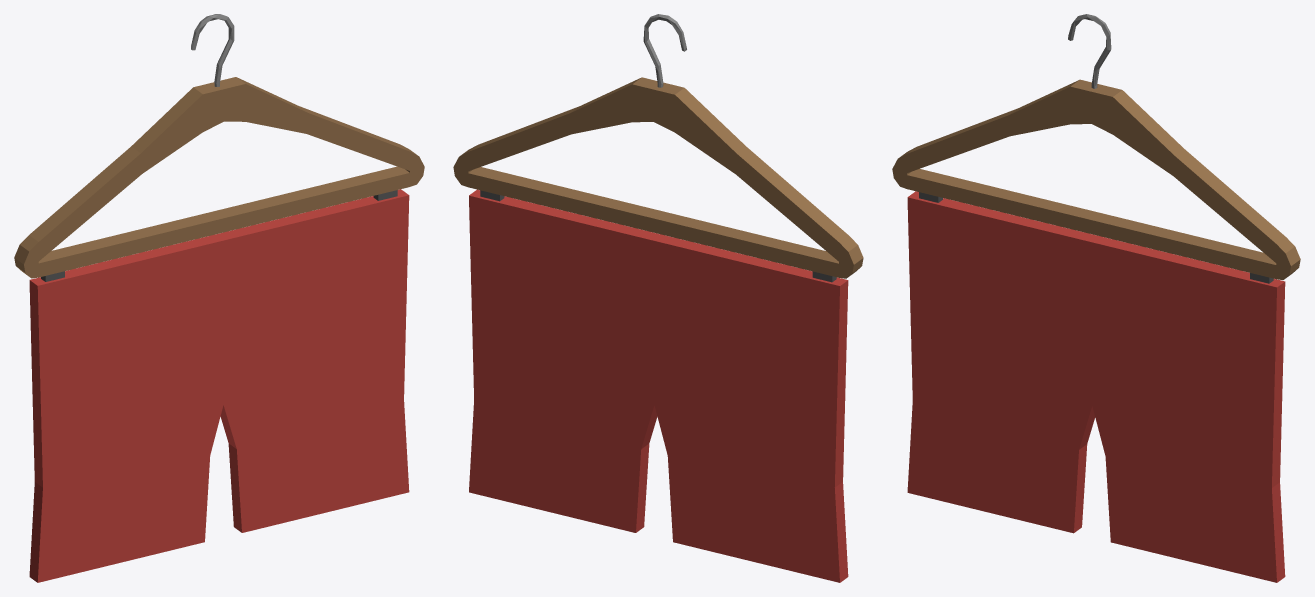
Rendered from Clothes8_C2.fbx.
The picture shows the model from 3 angles, left to right: view 1: azimuth 30°, elevation 25°; view 2: azimuth 150°, elevation 25°; view 3: azimuth 330°, elevation 25°; orthographic projection.
Visible parts, largest first — view 1: Clothes8_C2; view 2: Clothes8_C2; view 3: Clothes8_C2.
Boxes of the visible parts, x1,y1,x2,y2 form: Clothes8_C2: (14, 14, 424, 582); Clothes8_C2: (453, 14, 863, 582); Clothes8_C2: (892, 14, 1300, 582).
Bounding box in the file's own units: 42.14 × 52.38 × 1.76.
